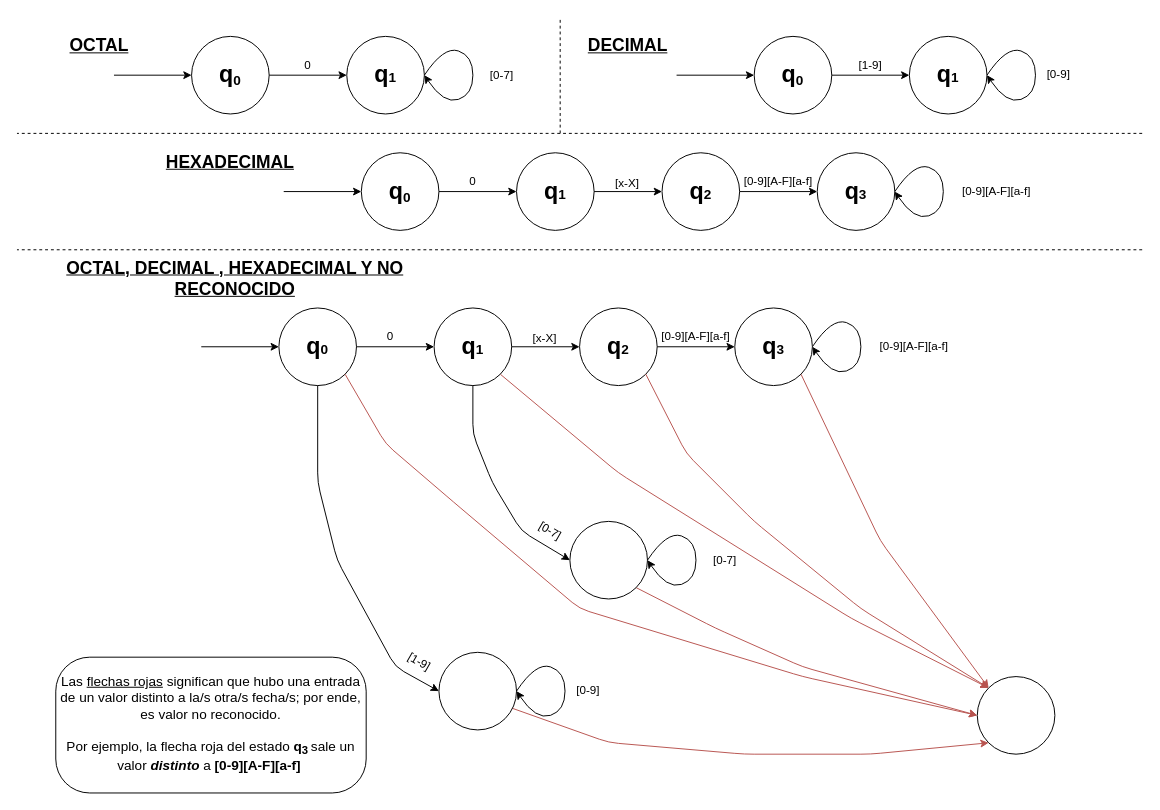
This 1160x810 diagram has some shape labels left out. The box of each missing label's shape, as (x1, y1, x2, y2) in pixels:
q 4: (569, 520, 647, 599)
q 5: (438, 651, 517, 730)
q 6: (976, 676, 1055, 754)
